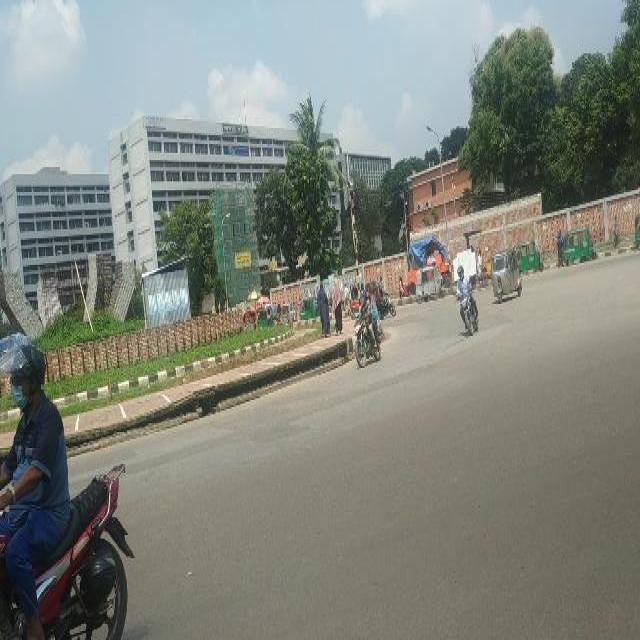motorbike: (0, 332, 136, 638), (352, 318, 383, 368), (452, 289, 480, 337), (374, 295, 396, 317)
rickshaw: (348, 287, 358, 321), (271, 302, 281, 327)
three wheelers -CNG-: (491, 252, 522, 303), (561, 226, 597, 265), (414, 266, 446, 303), (515, 236, 543, 272), (298, 294, 320, 318), (280, 304, 296, 322), (256, 306, 268, 330)
